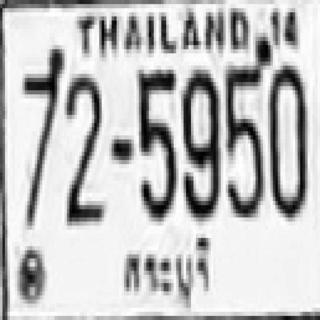N00: (268, 64, 305, 215)
N02: (64, 70, 102, 222)
N05: (223, 61, 263, 218), (136, 66, 174, 217)
N07: (20, 43, 62, 224), (20, 45, 62, 193)
N09: (181, 68, 218, 215)
P60: (116, 231, 220, 320)
